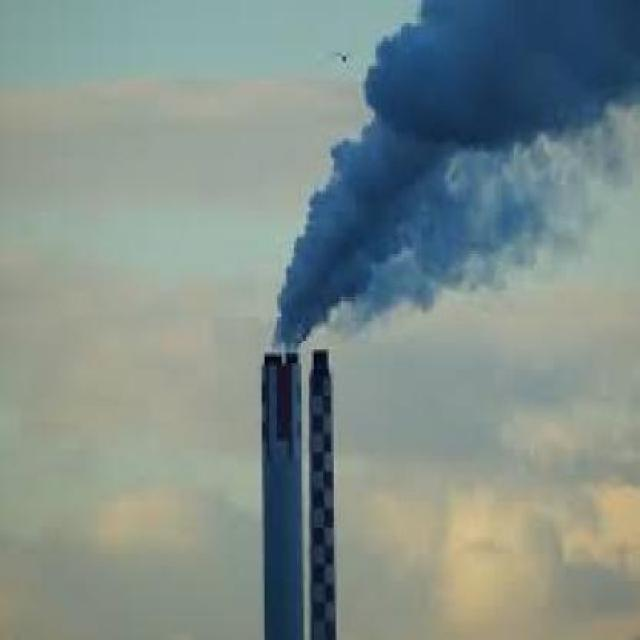Smoke: (266, 0, 638, 352)
